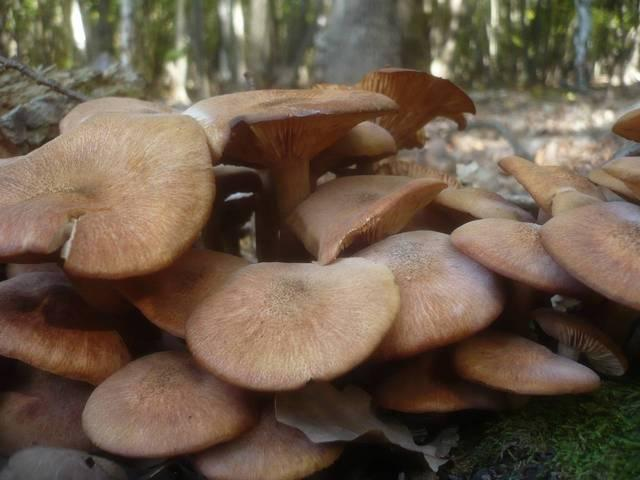Edible Mushroom: (1, 66, 638, 478)
